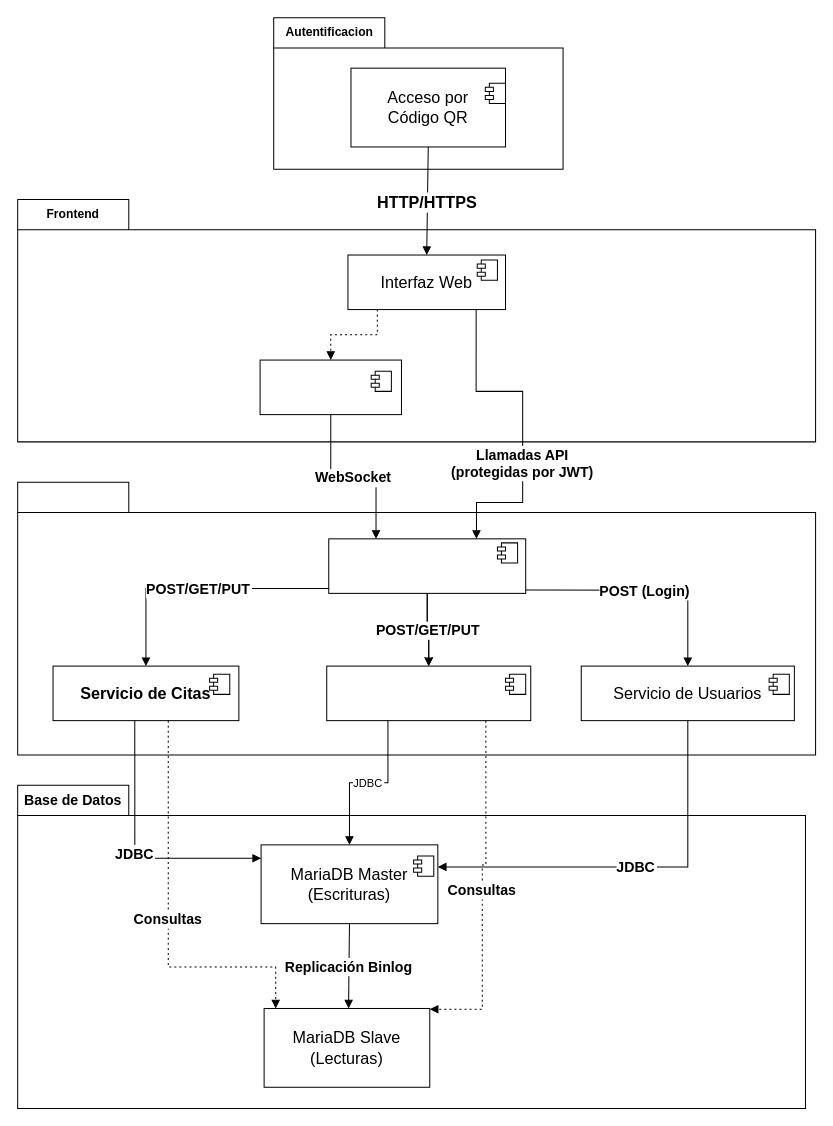
The diagram is 833 pixels wide and 1126 high, and some of its shapes have lost their labels. The box of each missing label's shape, as (x1, y1, x2, y2) in pixels:
API REST Gateway: (328, 538, 526, 593)
Backend: (17, 481, 816, 755)
ChatBot: (259, 359, 401, 415)
Servicio de Agenda: (326, 665, 531, 721)
